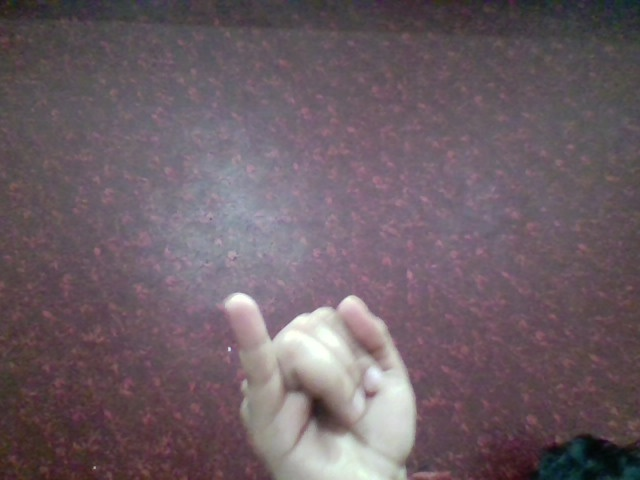j: (209, 279, 427, 480)
